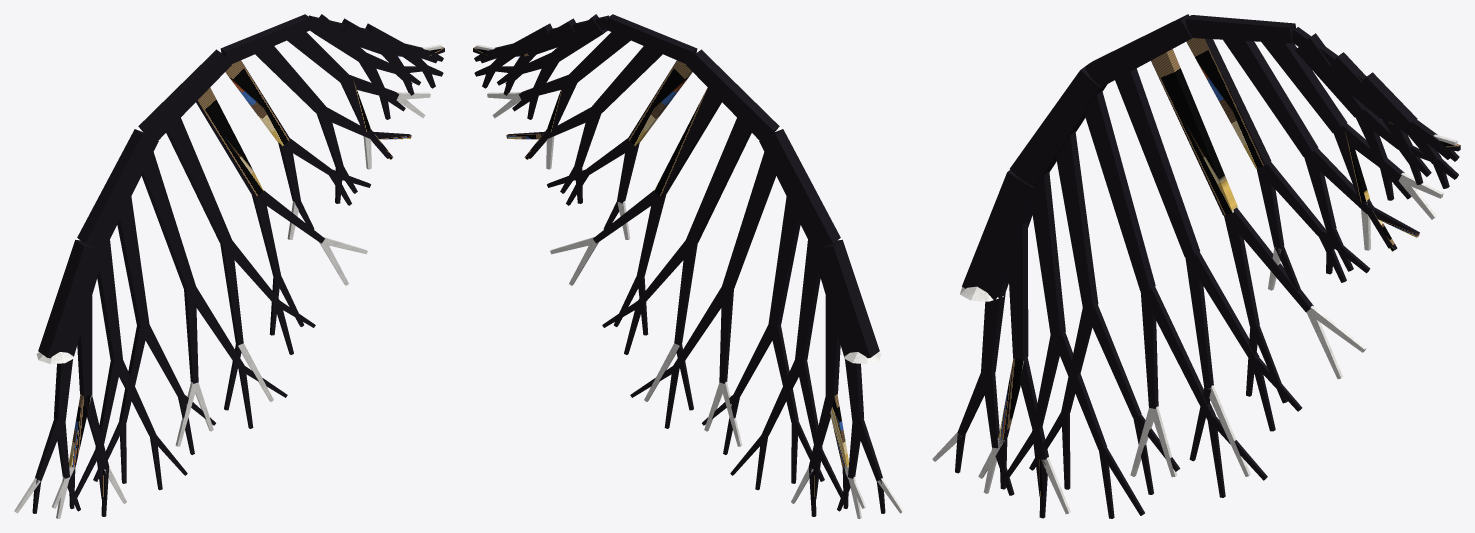
Rendered from bound_wing.obj.
The picture shows the model from 3 angles, left to right: view 1: azimuth 30°, elevation 25°; view 2: azimuth 150°, elevation 25°; view 3: azimuth 330°, elevation 25°; orthographic projection. The views are drawn at different scales.
Parts seen in each view (by area): view 1: bound_wing; view 2: bound_wing; view 3: bound_wing.
Part boxes in pixels (box(x1,y1,x2,y2)): bound_wing: box(14, 14, 444, 518); bound_wing: box(473, 14, 903, 518); bound_wing: box(932, 14, 1460, 518).
Size of the model in its own units: 3.81 by 3.83 by 0.3.
